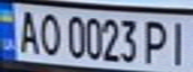0: (63, 11, 87, 60), (84, 14, 103, 62)
2: (100, 15, 121, 64)
3: (118, 16, 142, 64)
A: (12, 7, 42, 54)
I: (166, 18, 193, 66)
O: (33, 9, 63, 56)
P: (139, 17, 172, 65)
